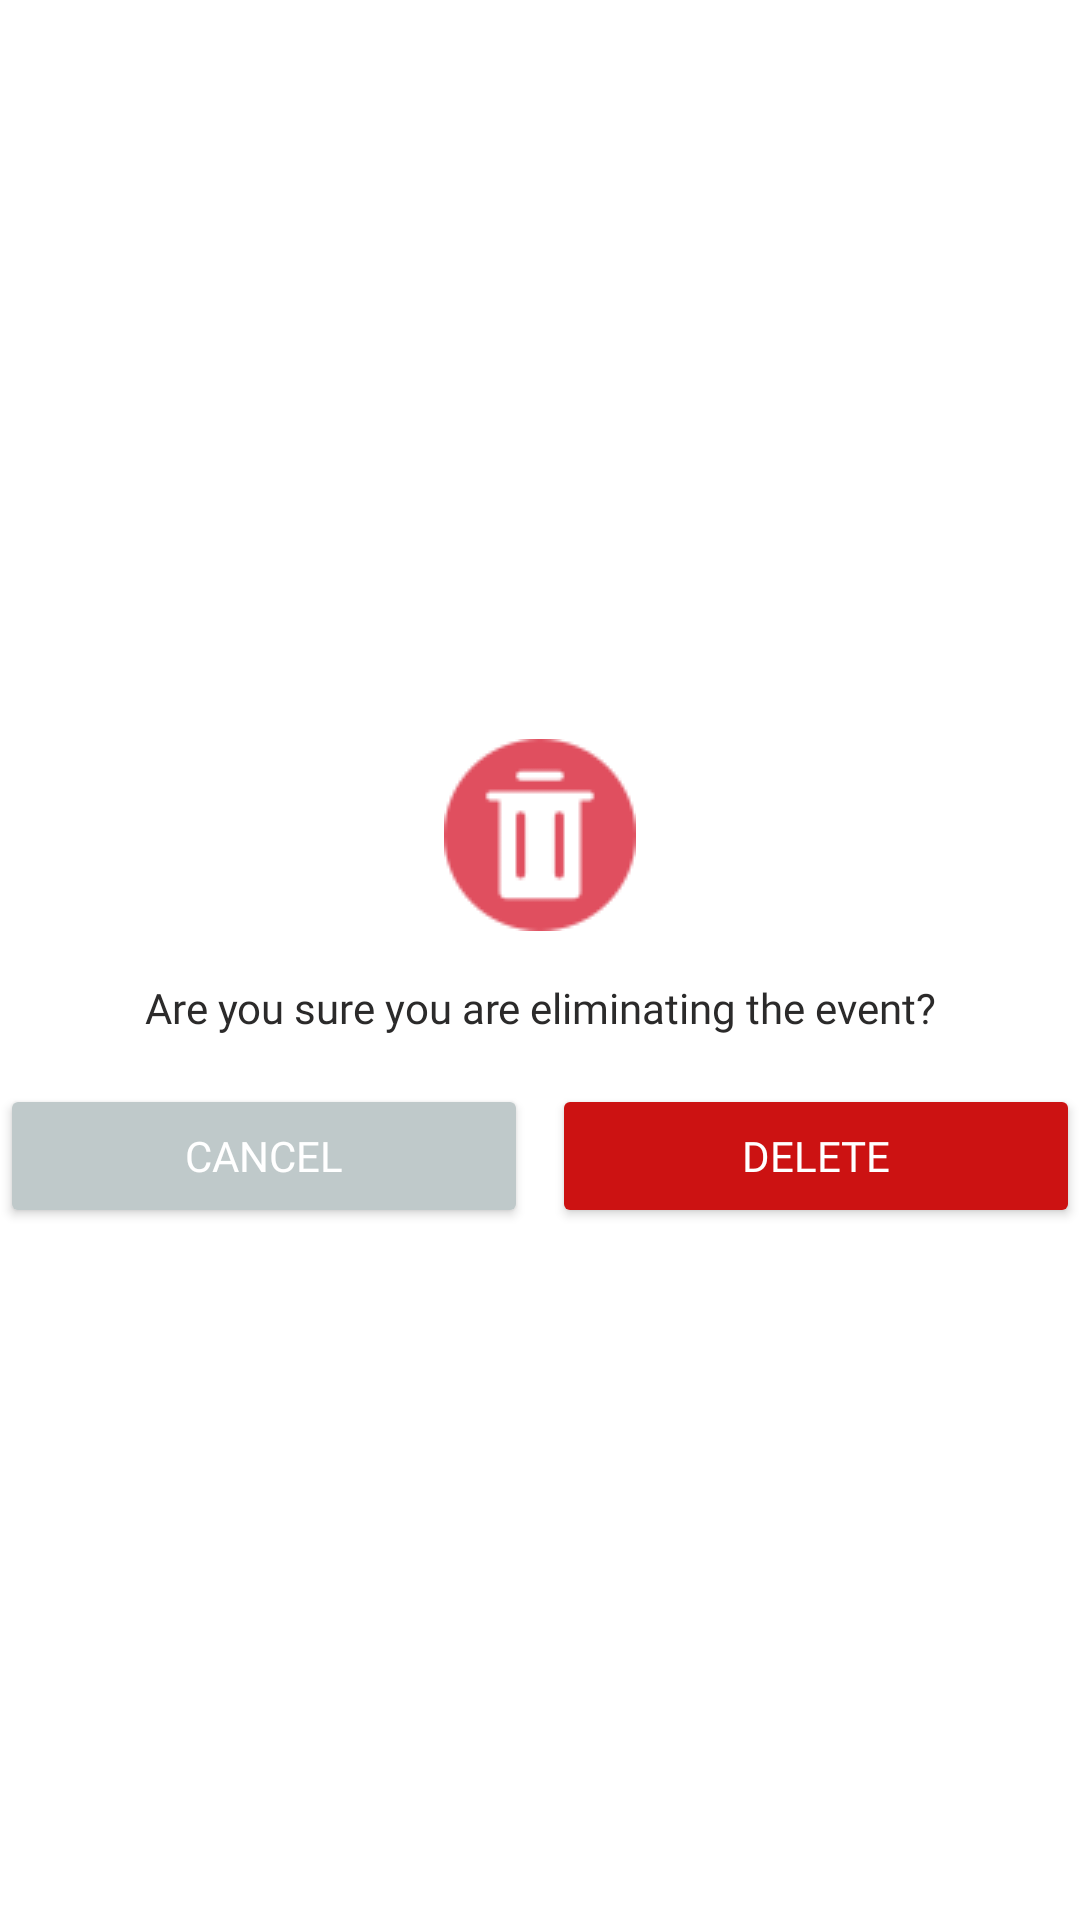

Where to tap for icons on this 1080 × 1920 app screen, as [x,y]:
trash: [540,835]
